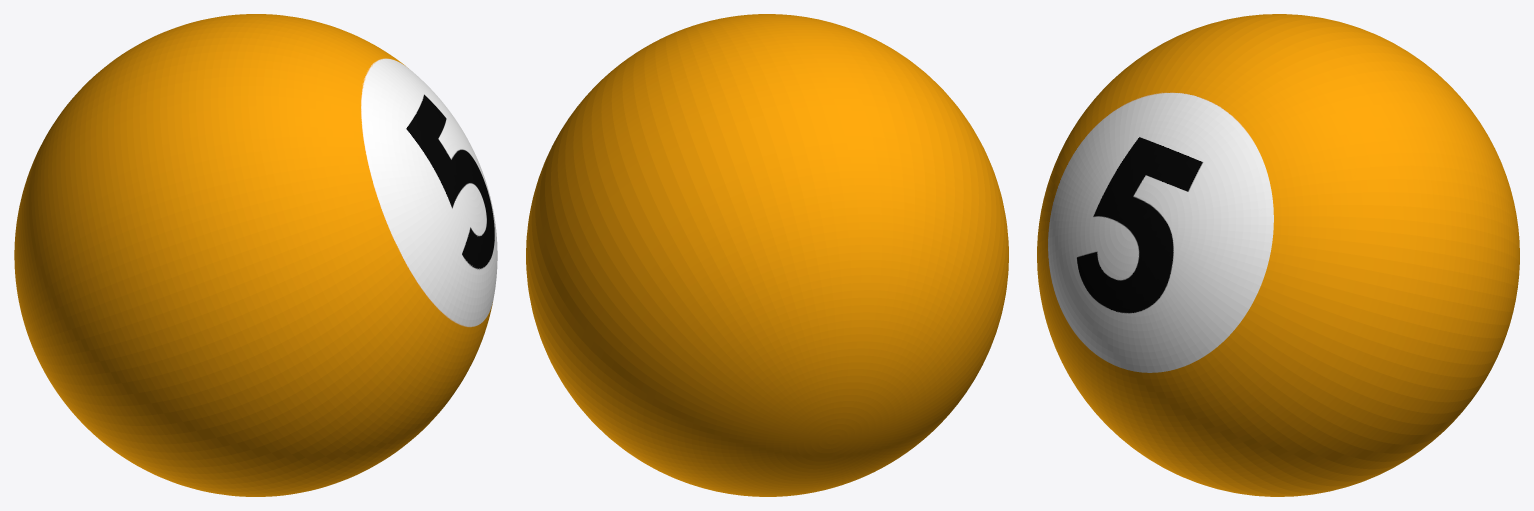
3 renders of one model, left to right at view 1: azimuth 30°, elevation 25°; view 2: azimuth 150°, elevation 25°; view 3: azimuth 270°, elevation 25°, orthographic.
Parts seen in each view (by area): view 1: Sphere; view 2: Sphere; view 3: Sphere.
Boxes of the visible parts, left/top/right/bottom form: Sphere: left=14, top=14, right=497, bottom=496; Sphere: left=526, top=14, right=1008, bottom=496; Sphere: left=1037, top=14, right=1519, bottom=496.
Bounding box in the file's own units: 3.7 × 3.7 × 3.7.
Materials: 1 (1 with a texture image).
